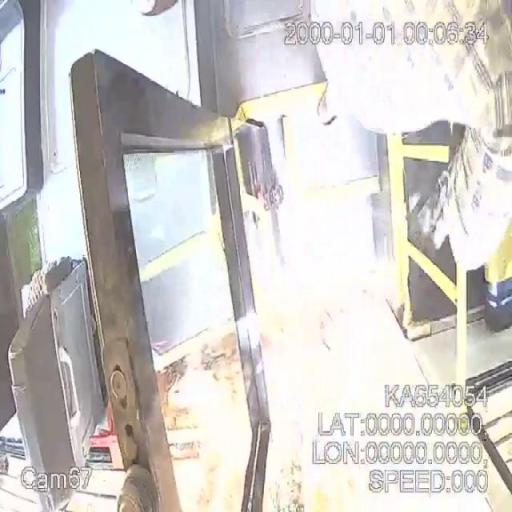persona: (310, 0, 512, 278)
